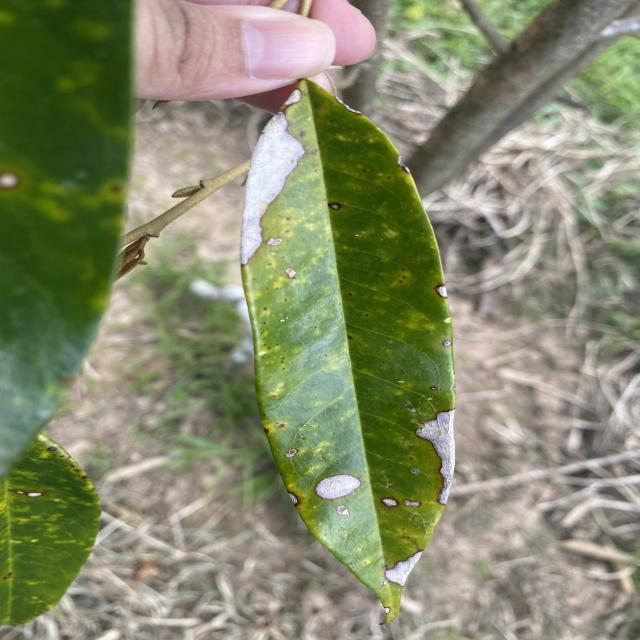Leaf Spot: (224, 75, 310, 272), (408, 395, 466, 508), (373, 539, 429, 589), (305, 464, 366, 504)
